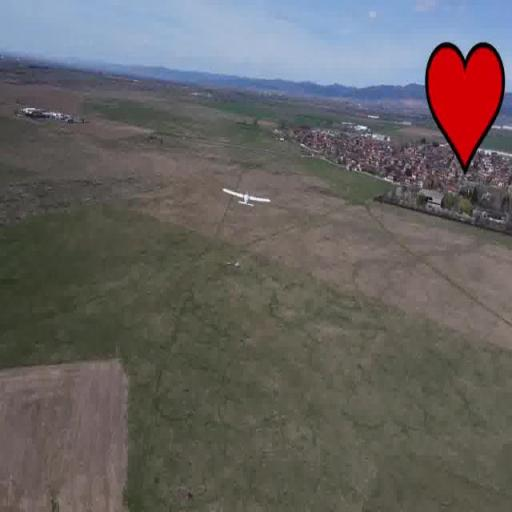uav: (223, 184, 273, 218)
